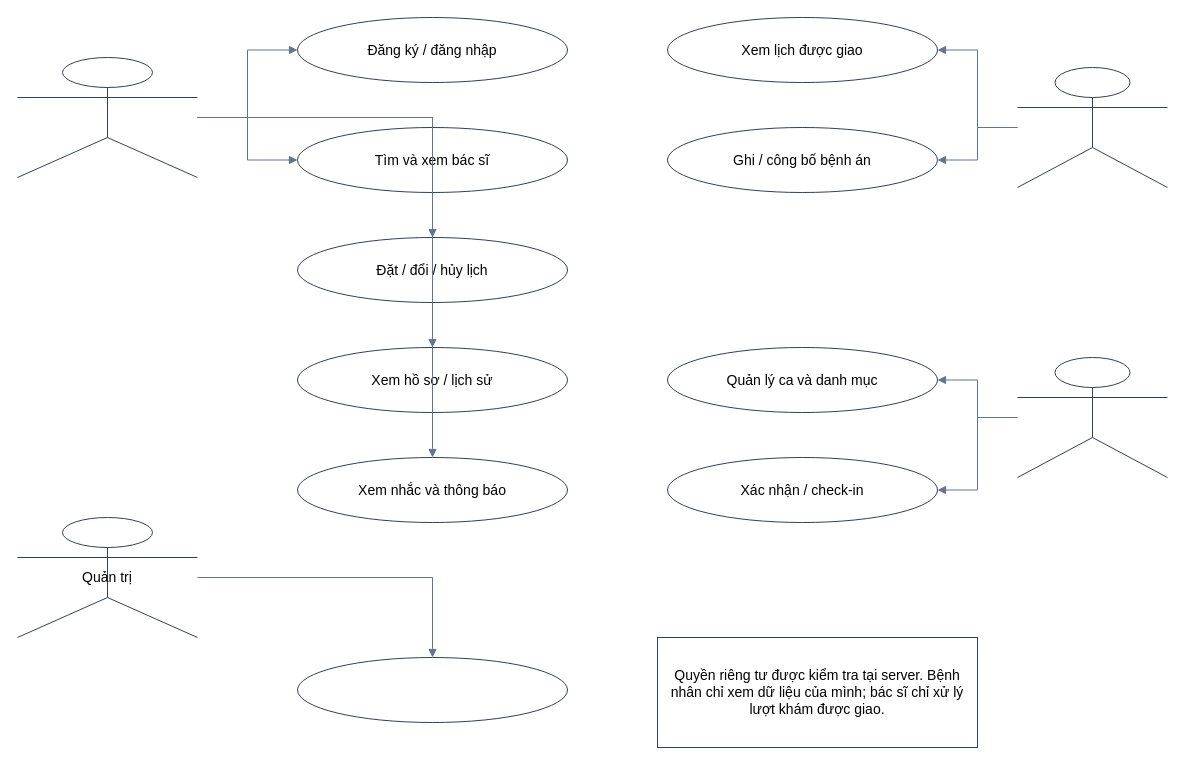
Image size: 1185x765. Some labels were removed from this diagram. Each missing label, with the box of its shape:
Bác sĩ: (1016, 66, 1168, 188)
Khách / Bệnh nhân: (16, 56, 198, 178)
Quản lý tài khoản: (296, 656, 568, 722)
Tiếp nhận: (1016, 356, 1168, 478)
